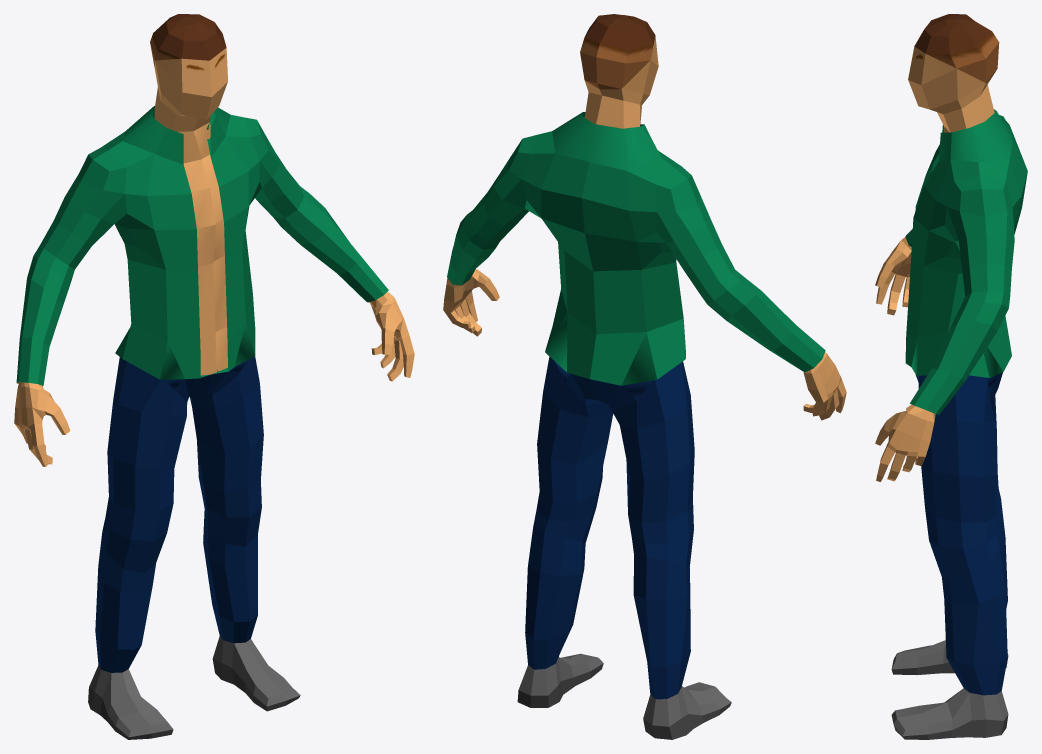
Rendered from personaj.fbx.
The picture shows the model from 3 angles, left to right: view 1: azimuth 30°, elevation 25°; view 2: azimuth 150°, elevation 25°; view 3: azimuth 270°, elevation 25°; orthographic projection.
Parts seen in each view (by area): view 1: BaseMeshBKP; view 2: BaseMeshBKP; view 3: BaseMeshBKP.
Boxes of the visible parts, x1,y1,x2,y2 form: BaseMeshBKP: [14, 14, 414, 739]; BaseMeshBKP: [443, 14, 846, 739]; BaseMeshBKP: [875, 14, 1027, 739].
Size of the model in its own units: 276 by 475 by 96.77.
